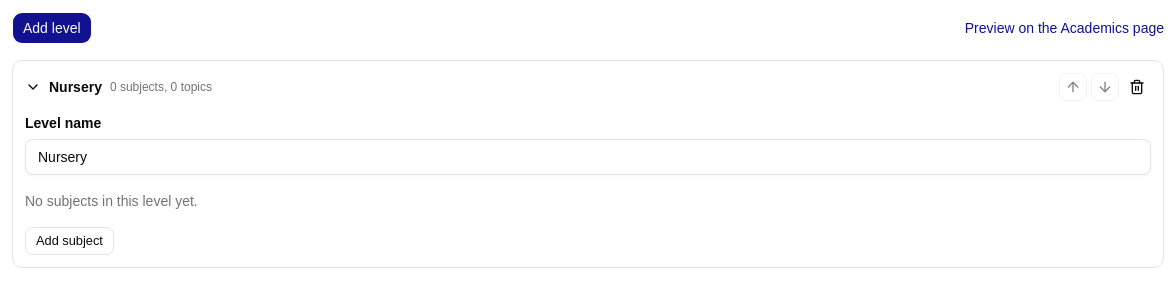
Scenario: SyllabusEditor (014b) › renames a level, and the row shows the new name
The image size is (1176, 285).
Replace the text in the field labelled "Level name" with "Pre-Nursery" at coordinates (588, 157), box 25,139 -> 1151,175
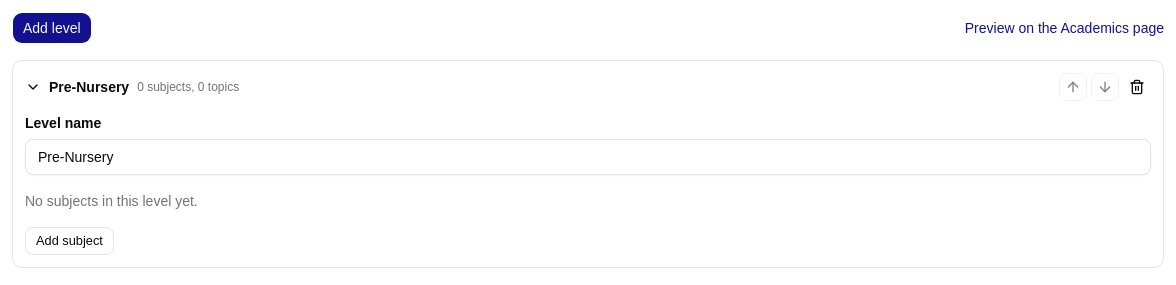
Expected: the text "Pre-Nursery" is shown, 49,77 -> 129,97
Expected: the button "Pre-Nursery 0 subjects, 0 topics" is shown, 25,77 -> 1051,97
